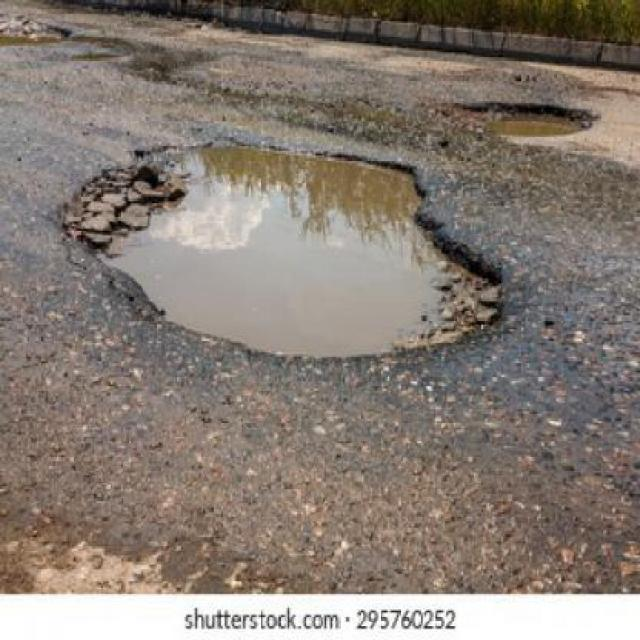Pothole: (46, 137, 506, 363), (444, 98, 598, 140), (0, 12, 74, 48)
